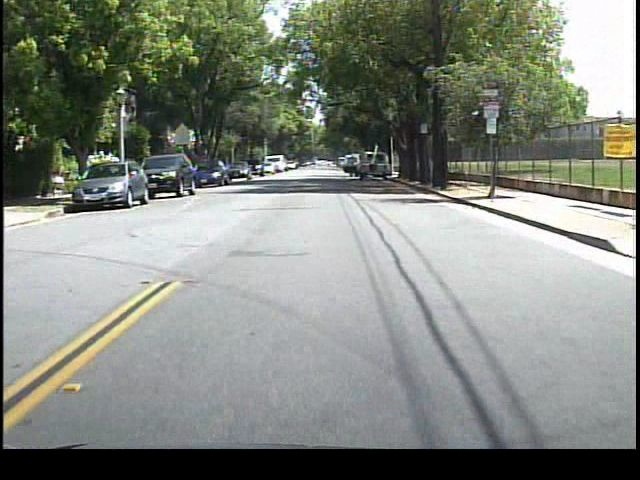person: (344, 154, 360, 180)
